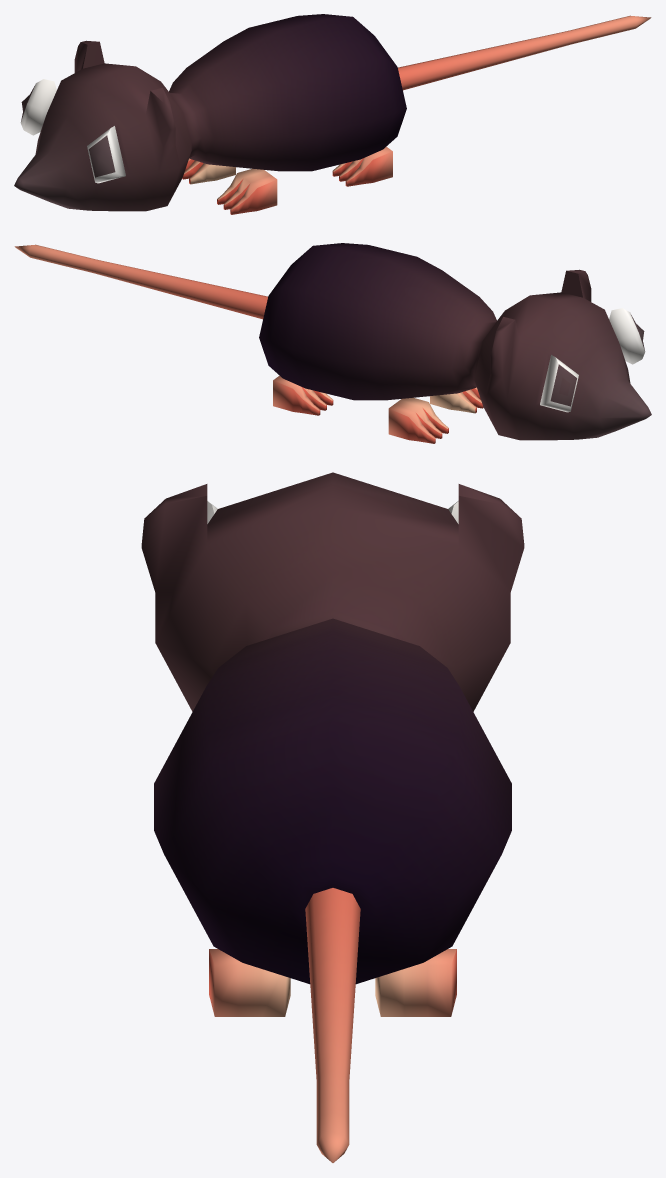
Rendered from Rat.fbx.
3 views of the same model, one above another, from view 1: azimuth 30°, elevation 25°; view 2: azimuth 150°, elevation 25°; view 3: azimuth 270°, elevation 25° (orthographic). The views are drawn at different scales.
Visible parts, largest first — view 1: Goober, Foot2, Foot1, Foot3; view 2: Goober, Foot3, Foot4, Foot2; view 3: Goober, Foot4, Foot1.
Part boxes in pixels (left/top/right/bottom): Goober: left=14, top=14, right=651, bottom=211; Foot2: left=217, top=168, right=277, bottom=214; Foot1: left=332, top=146, right=392, bottom=186; Foot3: left=182, top=158, right=235, bottom=184; Goober: left=14, top=243, right=651, bottom=440; Foot3: left=388, top=397, right=448, bottom=443; Foot4: left=273, top=375, right=333, bottom=415; Foot2: left=430, top=387, right=483, bottom=413; Goober: left=141, top=472, right=524, bottom=1162; Foot4: left=375, top=949, right=456, bottom=1016; Foot1: left=209, top=949, right=290, bottom=1016.
Bounding box in the file's own units: 1161 × 256 × 301.
